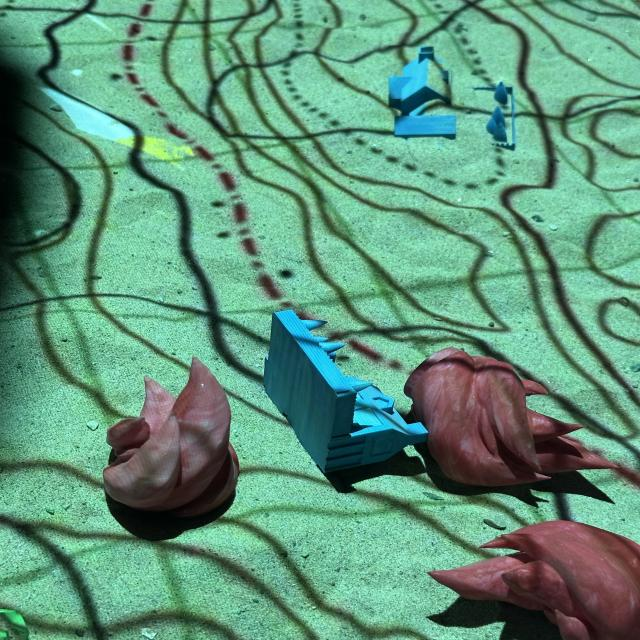fire: (403, 346, 619, 489), (426, 520, 640, 640), (105, 357, 240, 519)
house: (262, 308, 428, 475), (388, 46, 518, 150)
